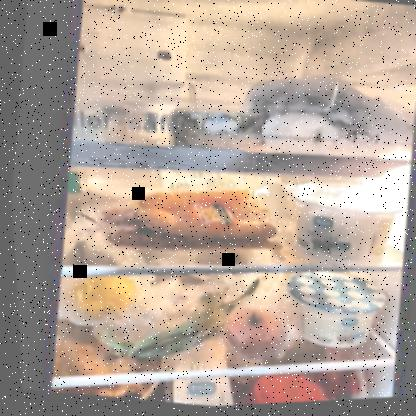butter: (167, 105, 265, 156)
carrot: (102, 178, 274, 259)
green_chillies: (91, 296, 226, 374)
lemon: (58, 272, 139, 326)
milk: (168, 380, 239, 409)
tomato: (222, 306, 284, 356)
yoghurt: (282, 176, 398, 267), (277, 269, 387, 358), (109, 98, 172, 141)
